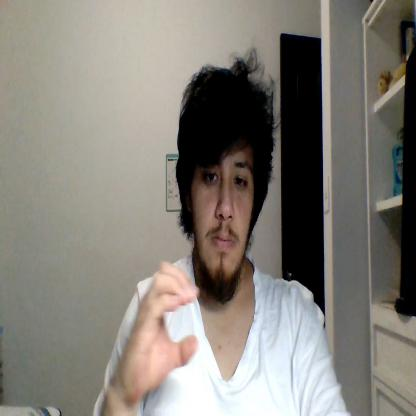C: (114, 260, 199, 395)
